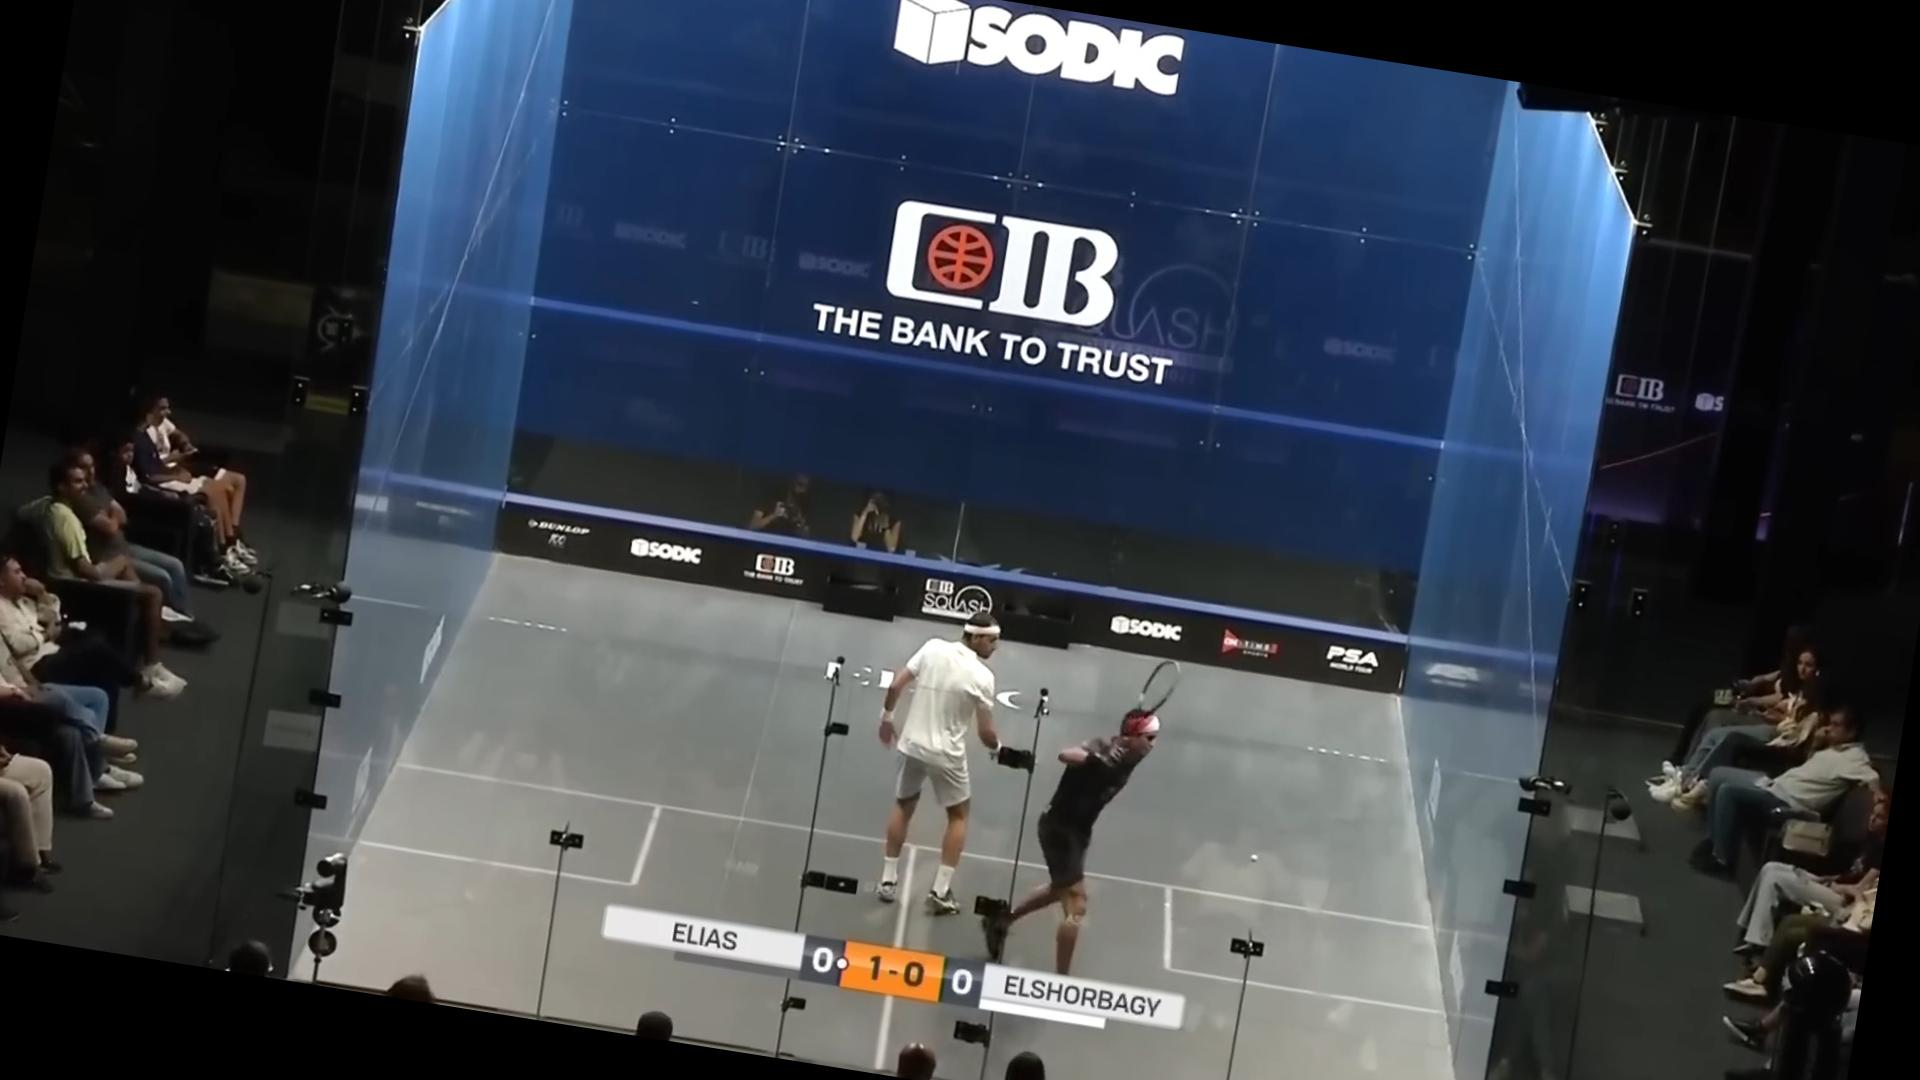Squash-Ball: (1232, 836, 1274, 880)
